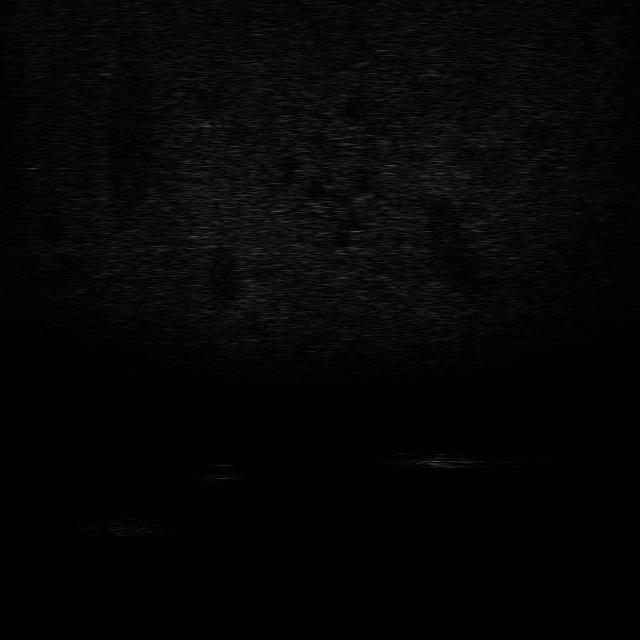ball: (198, 459, 242, 482)
circle cage: (85, 510, 153, 538)
human body: (380, 442, 482, 472)
